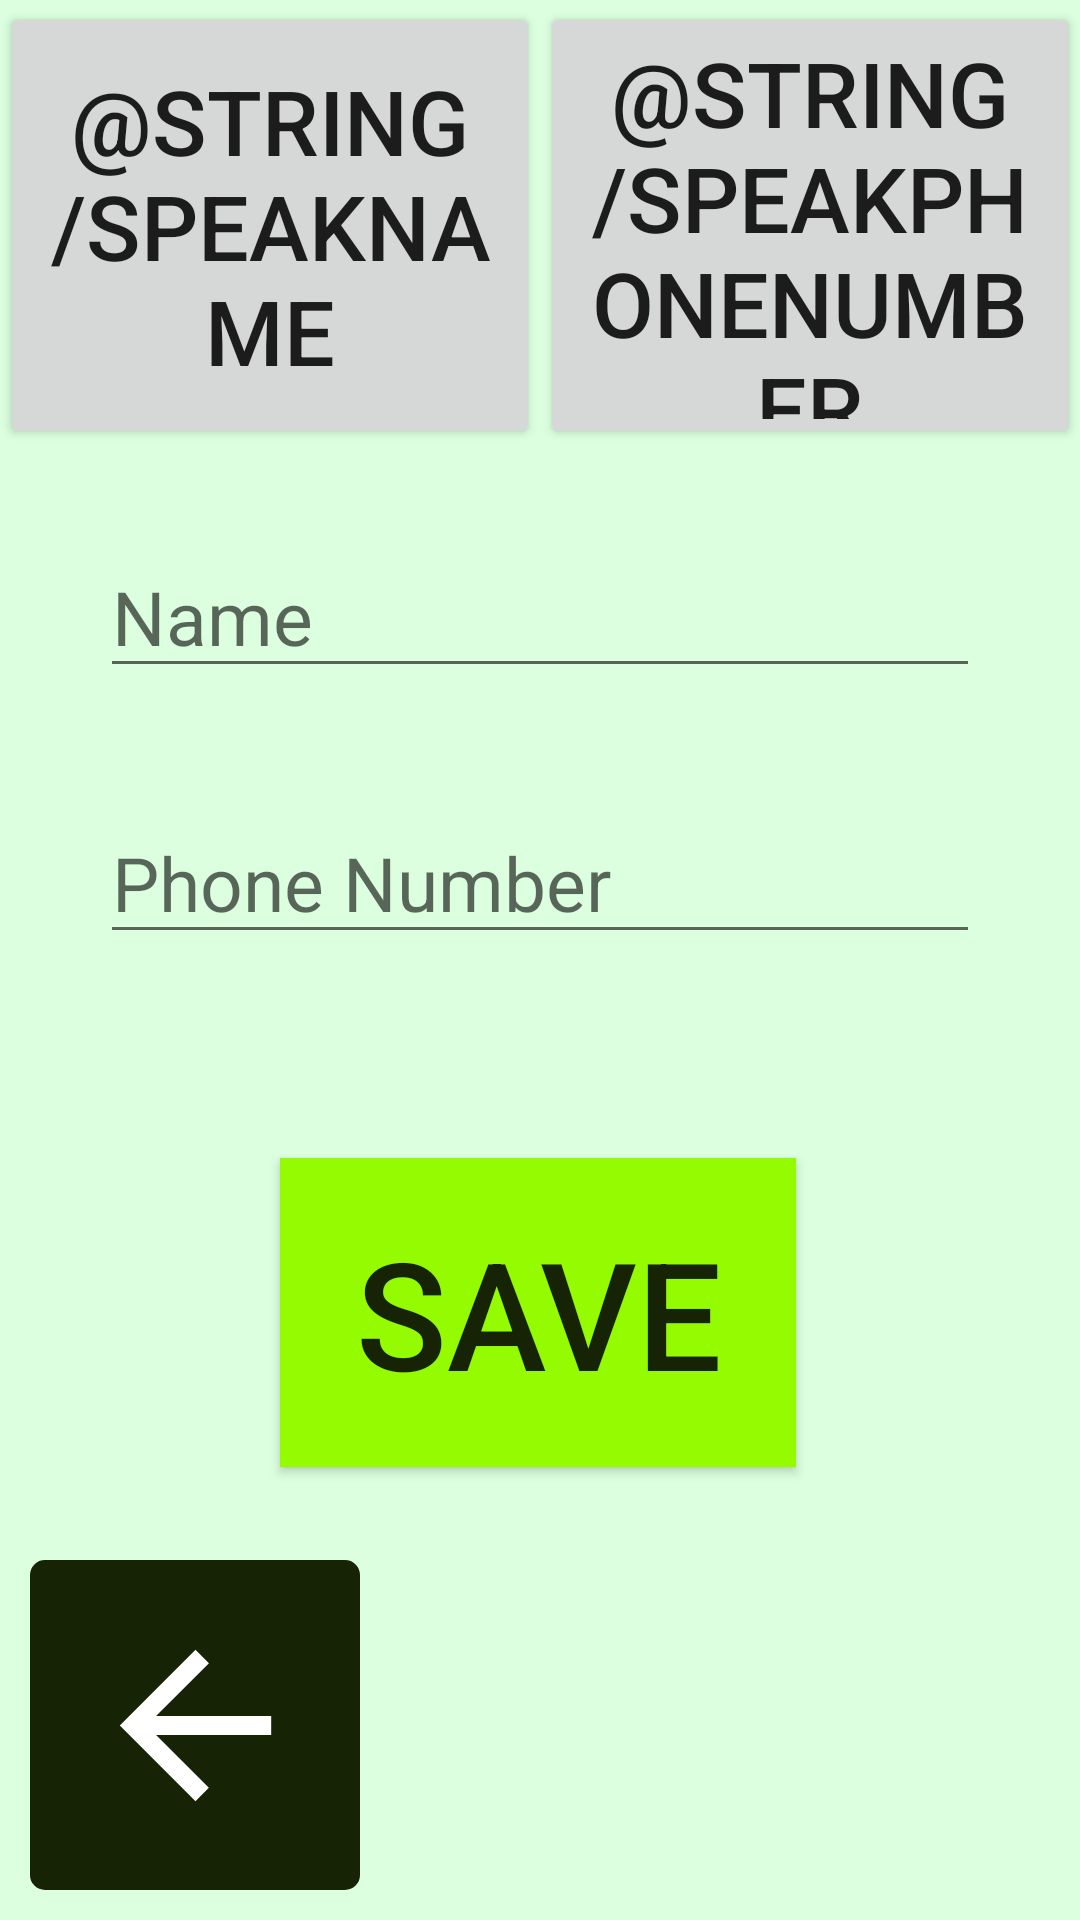

Icons on this 1080x1920 Android screen, each with its box as (x1, y1, x2, y2):
back: (30, 1560, 360, 1890)
